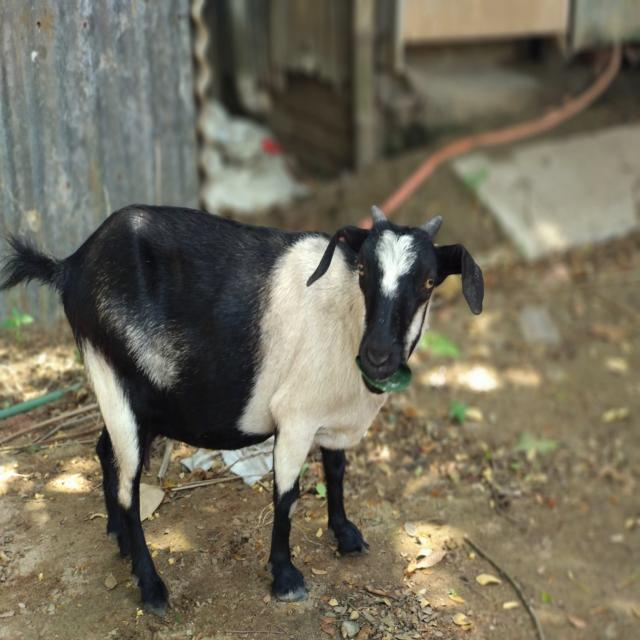Goat: (1, 200, 485, 617)
